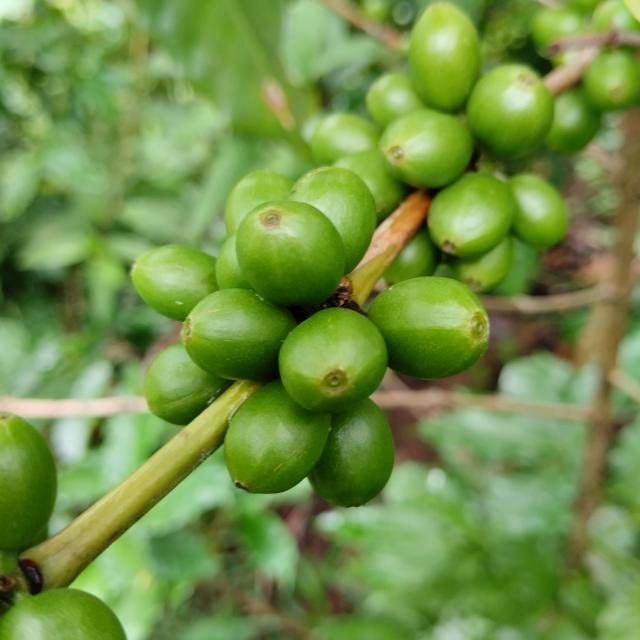green: (368, 276, 490, 380), (224, 380, 331, 494), (236, 200, 346, 306), (279, 308, 388, 413), (180, 289, 297, 380), (289, 166, 377, 274), (309, 399, 395, 508), (467, 63, 555, 158), (409, 1, 480, 111), (0, 413, 56, 552), (379, 108, 474, 188), (428, 172, 515, 259), (142, 342, 232, 426), (131, 245, 218, 321), (0, 589, 126, 640), (224, 170, 295, 236), (310, 112, 380, 164), (383, 228, 439, 286), (215, 234, 252, 289)
